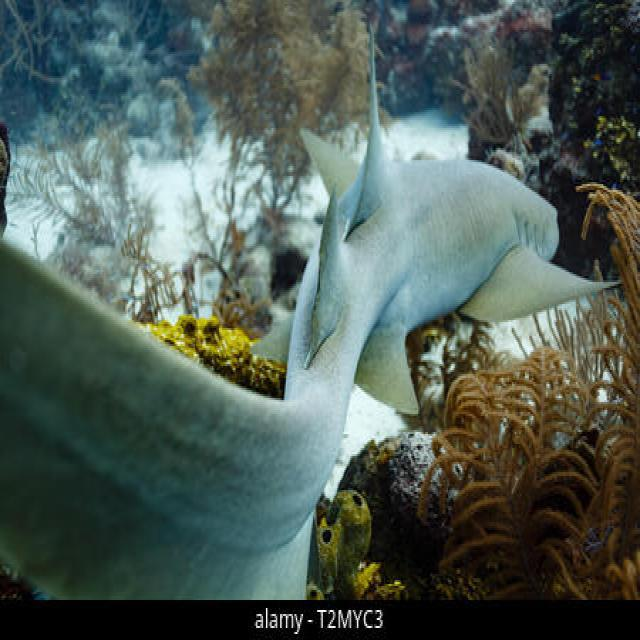Shark: (11, 20, 623, 604)
